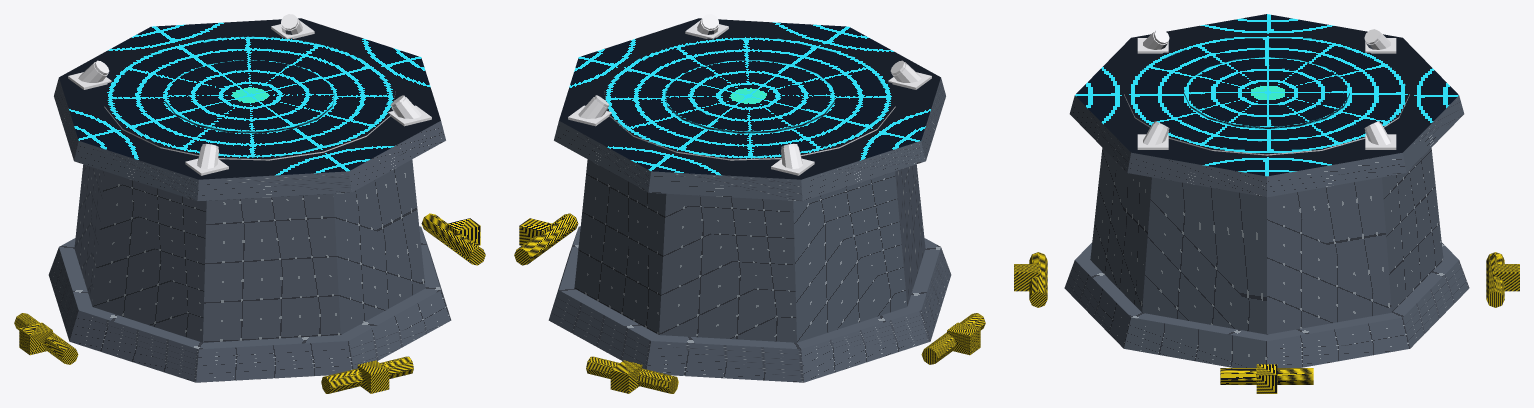
File: holo_table.glb
3 renders of one model, left to right at view 1: azimuth 30°, elevation 25°; view 2: azimuth 150°, elevation 25°; view 3: azimuth 270°, elevation 25°, orthographic. The views are drawn at different scales.
Visible parts, largest first — view 1: holo_table; view 2: holo_table; view 3: holo_table.
Boxes of the visible parts, box(x1,y1,x2,y2) form: holo_table: box(14, 14, 485, 393); holo_table: box(514, 14, 985, 393); holo_table: box(1014, 14, 1519, 393).
Size of the model in its own units: 1.95 by 0.9018 by 1.95.
Materials: 4 (3 with a texture image).
